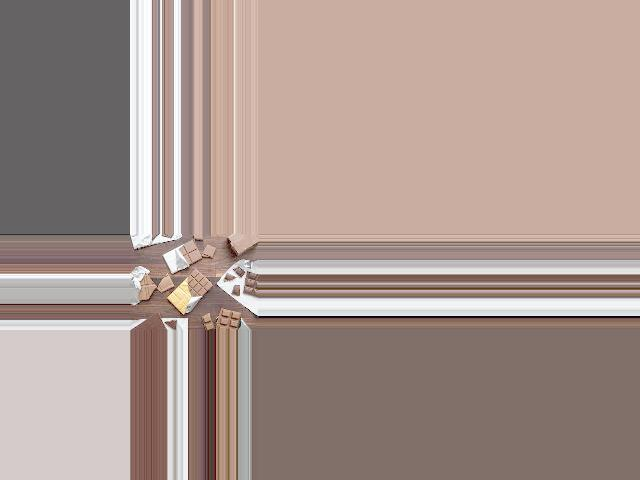chocolate: (165, 236, 201, 274)
